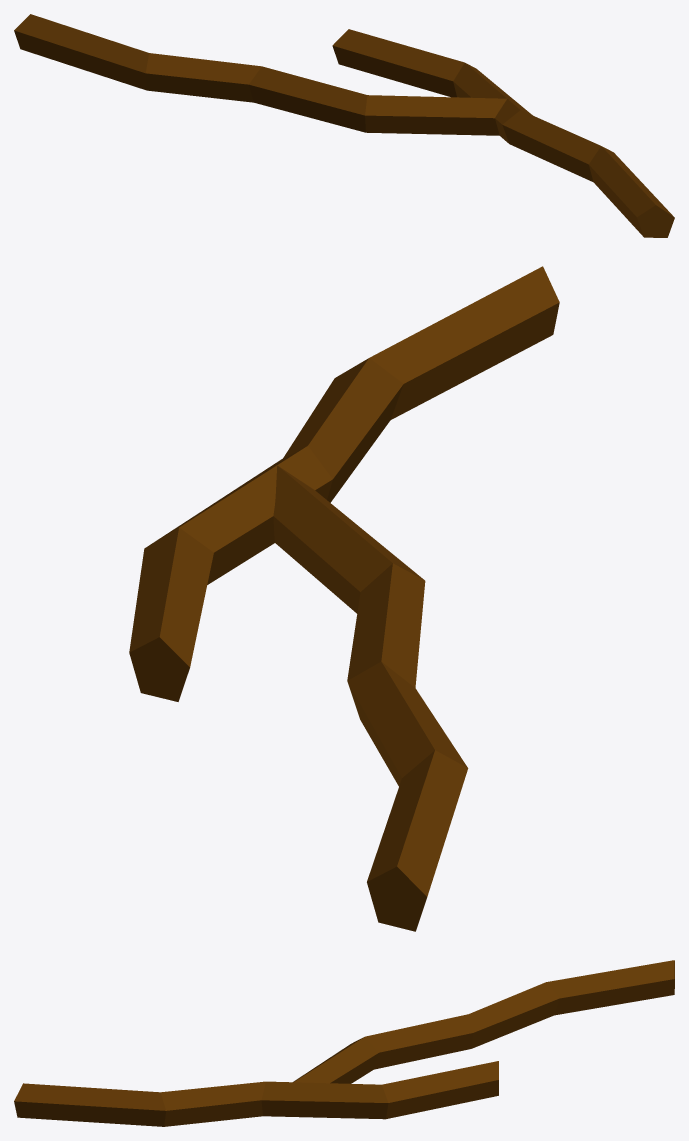
Rendered from stick.fbx.
3 views of the same model, one above another, from view 1: azimuth 30°, elevation 25°; view 2: azimuth 150°, elevation 25°; view 3: azimuth 270°, elevation 25° (orthographic). The views are drawn at different scales.
Visible parts, largest first — view 1: Cylinder.001; view 2: Cylinder.001; view 3: Cylinder.001.
Boxes of the visible parts, left/top/right/bottom form: Cylinder.001: left=14, top=14, right=674, bottom=237; Cylinder.001: left=129, top=266, right=559, bottom=931; Cylinder.001: left=14, top=960, right=674, bottom=1126.
Size of the model in its own units: 258 by 24.81 by 490.
